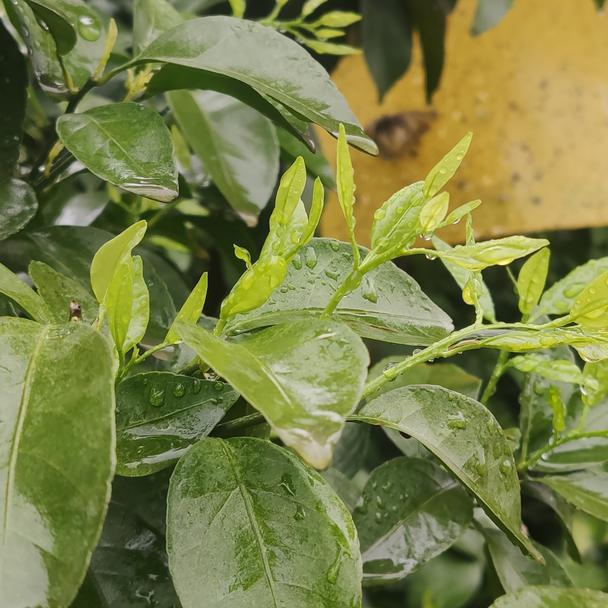shoot: (336, 137, 510, 317), (432, 262, 608, 388), (222, 175, 333, 326), (97, 243, 212, 382), (245, 2, 368, 64)
